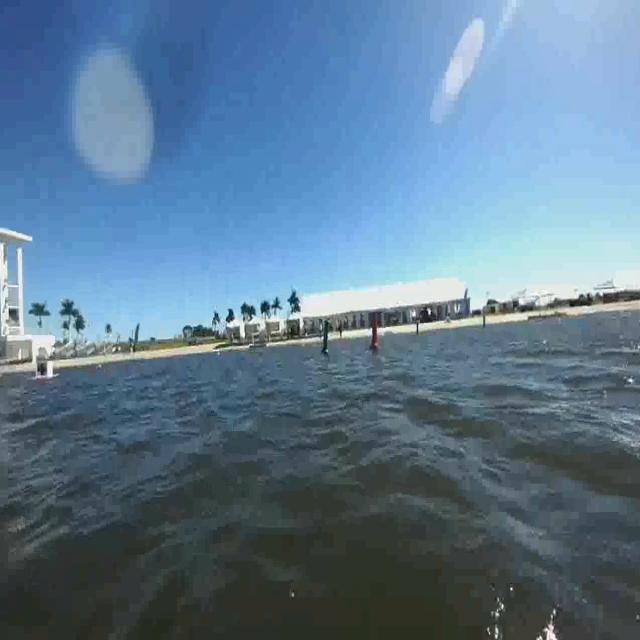green-column-buoy: (319, 319, 332, 356)
red-column-buoy: (369, 319, 380, 352)
